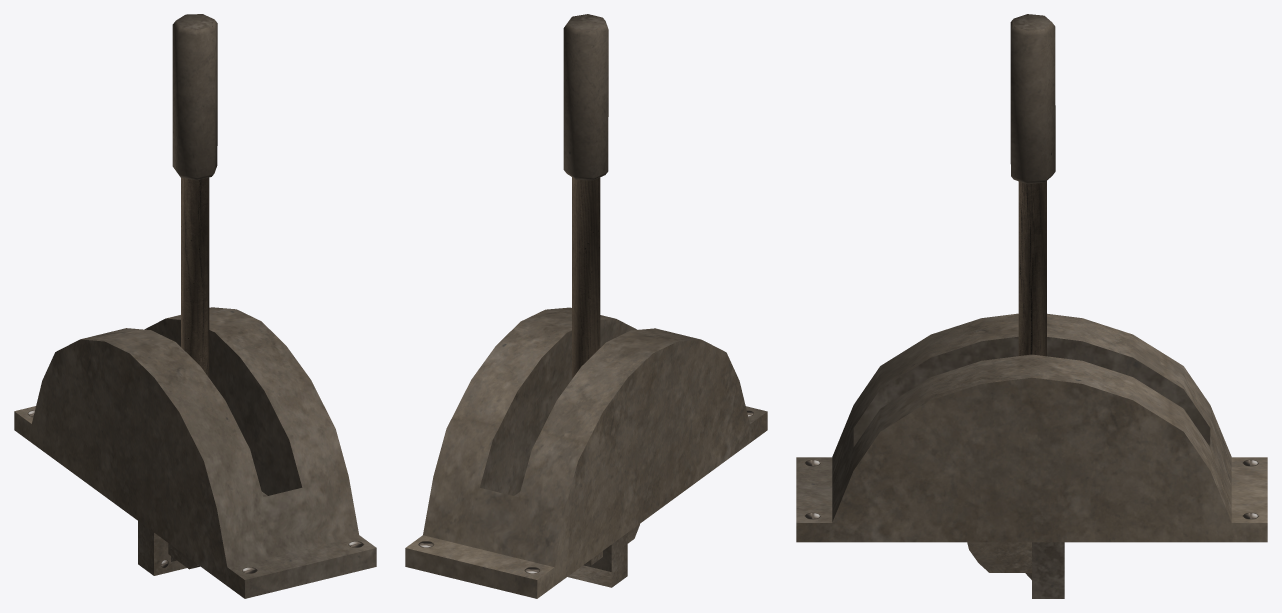
Rendered from Levers.fbx.
3 renders of one model, left to right at view 1: azimuth 30°, elevation 25°; view 2: azimuth 150°, elevation 25°; view 3: azimuth 270°, elevation 25°, orthographic. The views are drawn at different scales.
Visible parts, largest first — view 1: Lever_Large, Lever_Twist; view 2: Lever_Large, Lever_Twist; view 3: Lever_Large, Lever_Twist, Lever_Small.
Part boxes in pixels (x1,y1,x2,y2): Lever_Large: (14,14,376,598); Lever_Twist: (138,521,186,575); Lever_Large: (405,14,767,598); Lever_Twist: (567,533,627,587); Lever_Large: (796,14,1267,542); Lever_Twist: (1032,542,1064,598); Lever_Small: (967,542,1031,572).
Bounding box in the file's own units: 3.2 × 12.62 × 9.7.
